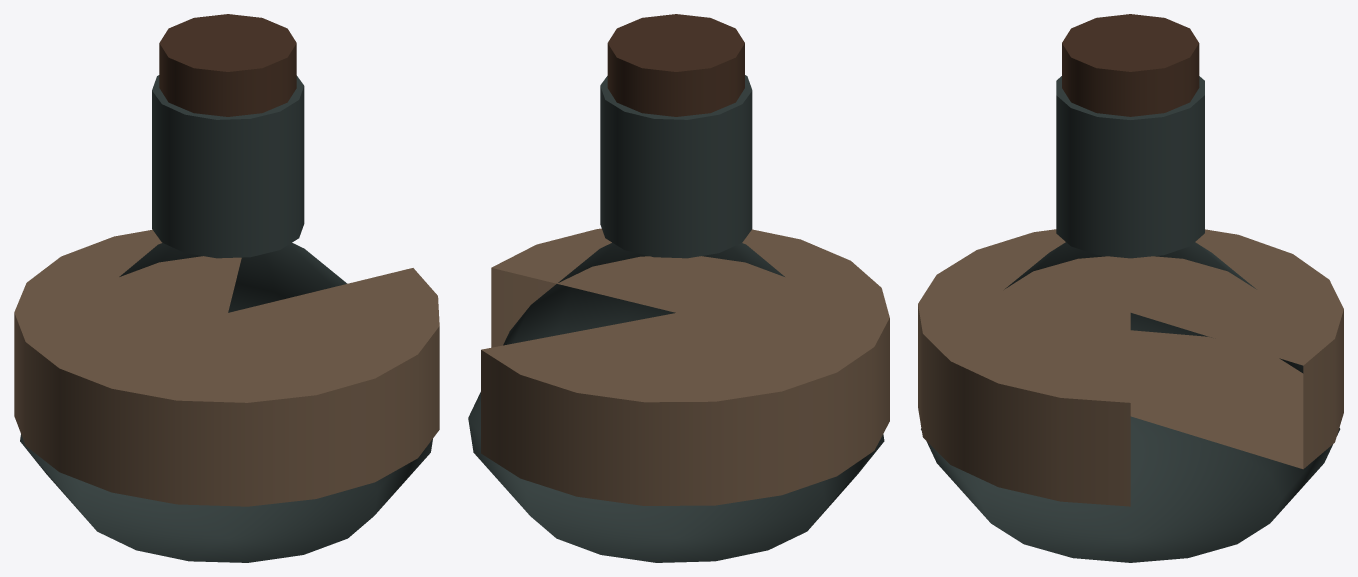
The model's file is antidote.obj.
3 renders of one model, left to right at view 1: azimuth 30°, elevation 25°; view 2: azimuth 150°, elevation 25°; view 3: azimuth 270°, elevation 25°, orthographic.
Parts seen in each view (by area): view 1: antidote; view 2: antidote; view 3: antidote.
Part boxes in pixels (x1,y1,x2,y2): antidote: [14, 14, 439, 562]; antidote: [468, 14, 889, 562]; antidote: [918, 14, 1343, 562].
Bounding box in the file's own units: 1.11 × 1.43 × 1.12.
